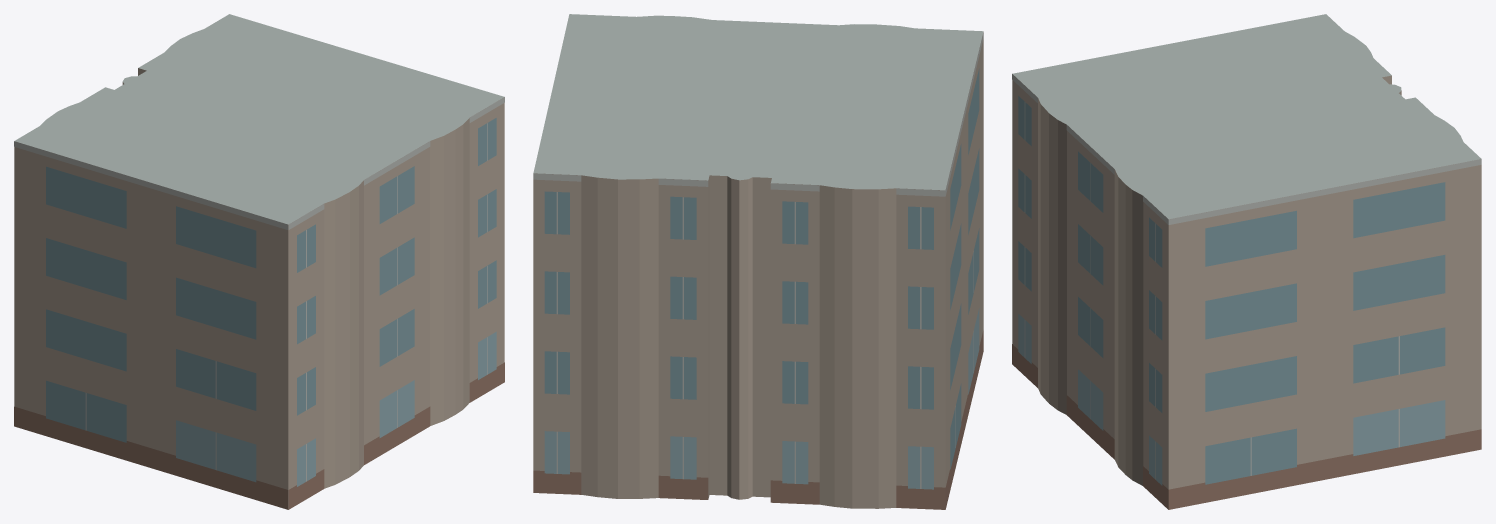
The model's file is survey-upis-32741819.glb.
3 views of the same model, side by side, from view 1: azimuth 30°, elevation 25°; view 2: azimuth 150°, elevation 25°; view 3: azimuth 270°, elevation 25° (orthographic). The views are drawn at different scales.
Visible parts, largest first — view 1: survey-upis-32741819.tmp; view 2: survey-upis-32741819.tmp; view 3: survey-upis-32741819.tmp.
Boxes of the visible parts, <box> form: survey-upis-32741819.tmp: <box>14,14,504,509</box>; survey-upis-32741819.tmp: <box>533,14,983,509</box>; survey-upis-32741819.tmp: <box>1012,14,1481,509</box>.
Size of the model in its own units: 18.5 by 12.2 by 17.88.
